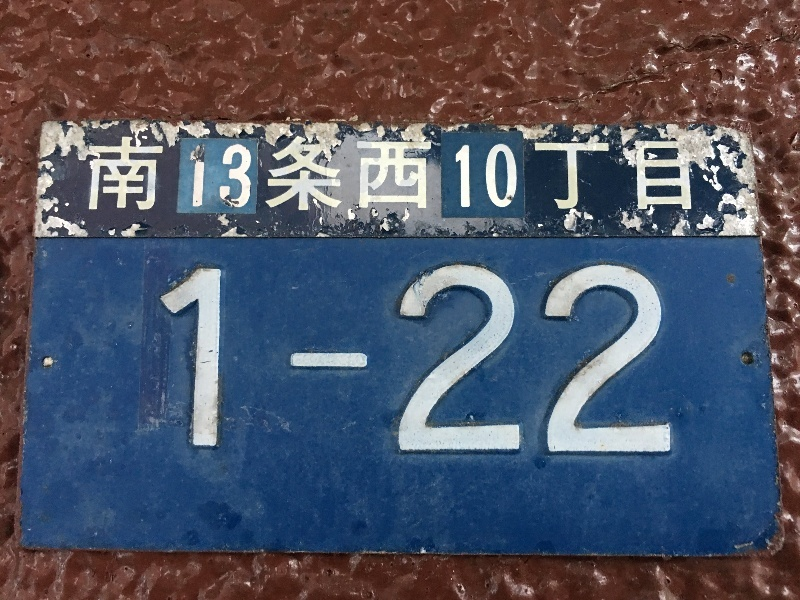text: (177, 262, 192, 458), (193, 262, 208, 458), (209, 262, 224, 458), (225, 262, 240, 458), (241, 262, 256, 458), (257, 262, 272, 458), (273, 262, 288, 458), (289, 262, 304, 458), (305, 262, 320, 458), (321, 262, 336, 458), (337, 262, 352, 458), (353, 262, 368, 458), (369, 262, 384, 458), (385, 262, 400, 458), (401, 262, 416, 458), (417, 262, 432, 458), (433, 262, 448, 458), (449, 262, 464, 458), (465, 262, 480, 458), (481, 262, 496, 458), (497, 262, 512, 458), (513, 262, 528, 458), (529, 262, 544, 458), (545, 262, 560, 458), (561, 262, 576, 458), (577, 262, 592, 458), (593, 262, 608, 458), (609, 262, 624, 458), (625, 262, 640, 458), (641, 262, 656, 458), (657, 262, 672, 458), (163, 262, 176, 458), (673, 262, 681, 458), (97, 132, 112, 215), (113, 132, 128, 215), (129, 132, 144, 215), (145, 132, 160, 215), (161, 132, 176, 215), (177, 132, 192, 215), (193, 132, 208, 215), (209, 132, 224, 215), (225, 132, 240, 215), (241, 132, 256, 215), (257, 132, 272, 215), (273, 132, 288, 215), (289, 132, 304, 215), (305, 132, 320, 215), (321, 132, 336, 215), (337, 132, 352, 215), (353, 132, 368, 215), (369, 132, 384, 215), (385, 132, 400, 215), (401, 132, 416, 215), (417, 132, 432, 215), (433, 132, 448, 215), (449, 132, 464, 215), (465, 132, 480, 215), (481, 132, 496, 215), (497, 132, 512, 215), (513, 132, 528, 215), (529, 132, 544, 215), (545, 132, 560, 215), (561, 132, 576, 215), (577, 132, 592, 215), (593, 132, 608, 215), (609, 132, 624, 215), (625, 132, 640, 215), (641, 132, 656, 215), (657, 132, 672, 215), (673, 132, 688, 215), (83, 132, 96, 215), (689, 132, 696, 215)
